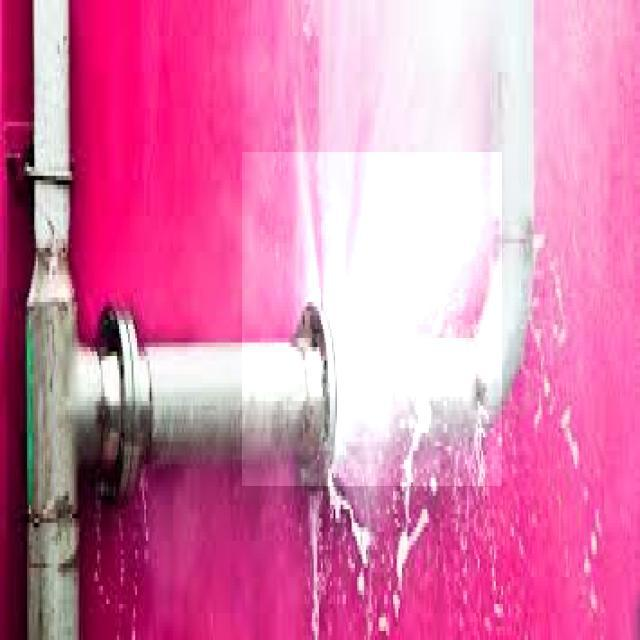corrosion: (230, 250, 468, 480)
